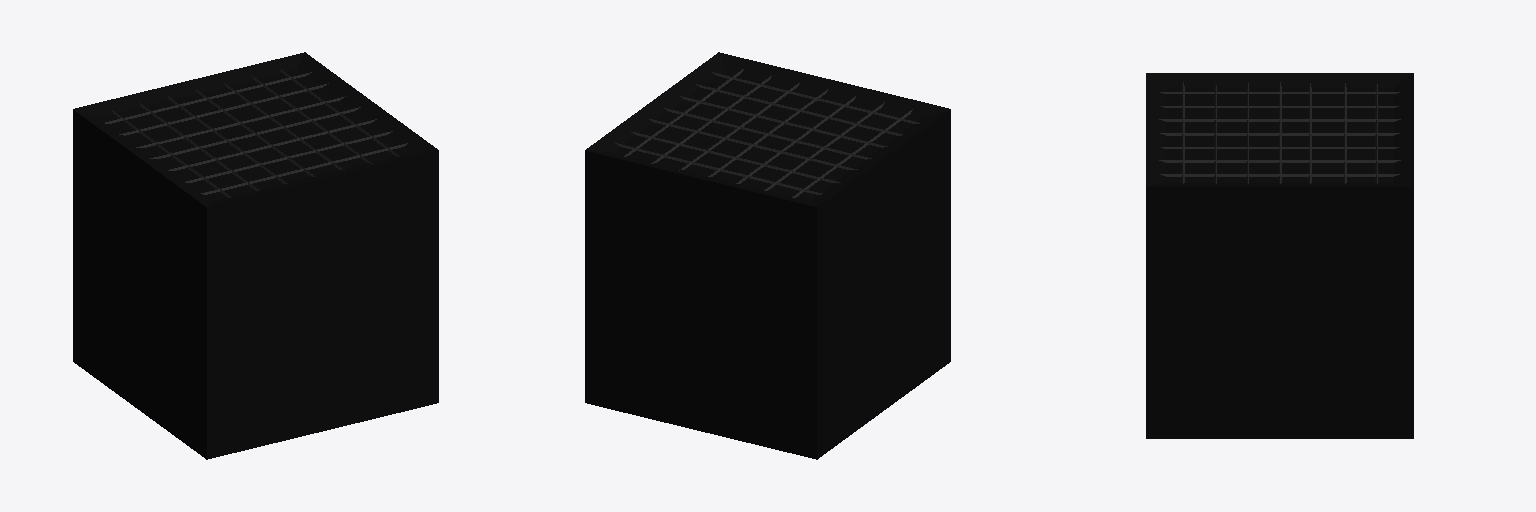
The model's file is Tile1.obj.
The picture shows the model from 3 angles: view 1: azimuth 30°, elevation 25°; view 2: azimuth 150°, elevation 25°; view 3: azimuth 270°, elevation 25°; orthographic projection.
Visible parts, largest first — view 1: Cube, Cube.001; view 2: Cube, Cube.001; view 3: Cube, Cube.001.
Part boxes in pixels (left/top/right/bottom): Cube: left=73, top=52, right=438, bottom=459; Cube.001: left=105, top=69, right=407, bottom=197; Cube: left=585, top=52, right=950, bottom=459; Cube.001: left=615, top=69, right=919, bottom=197; Cube: left=1146, top=73, right=1413, bottom=438; Cube.001: left=1159, top=82, right=1400, bottom=183.
Size of the model in its own units: 2 by 2.07 by 2.